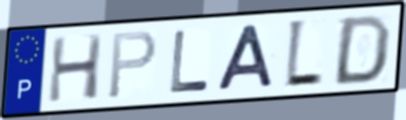A: (214, 22, 276, 93)
D: (330, 12, 394, 87)
H: (46, 32, 106, 105)
L: (282, 17, 325, 92), (168, 28, 211, 95)
P: (106, 28, 159, 102)
